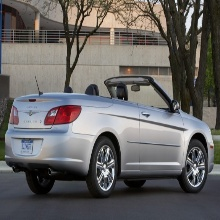no damage: (4, 76, 214, 197)
